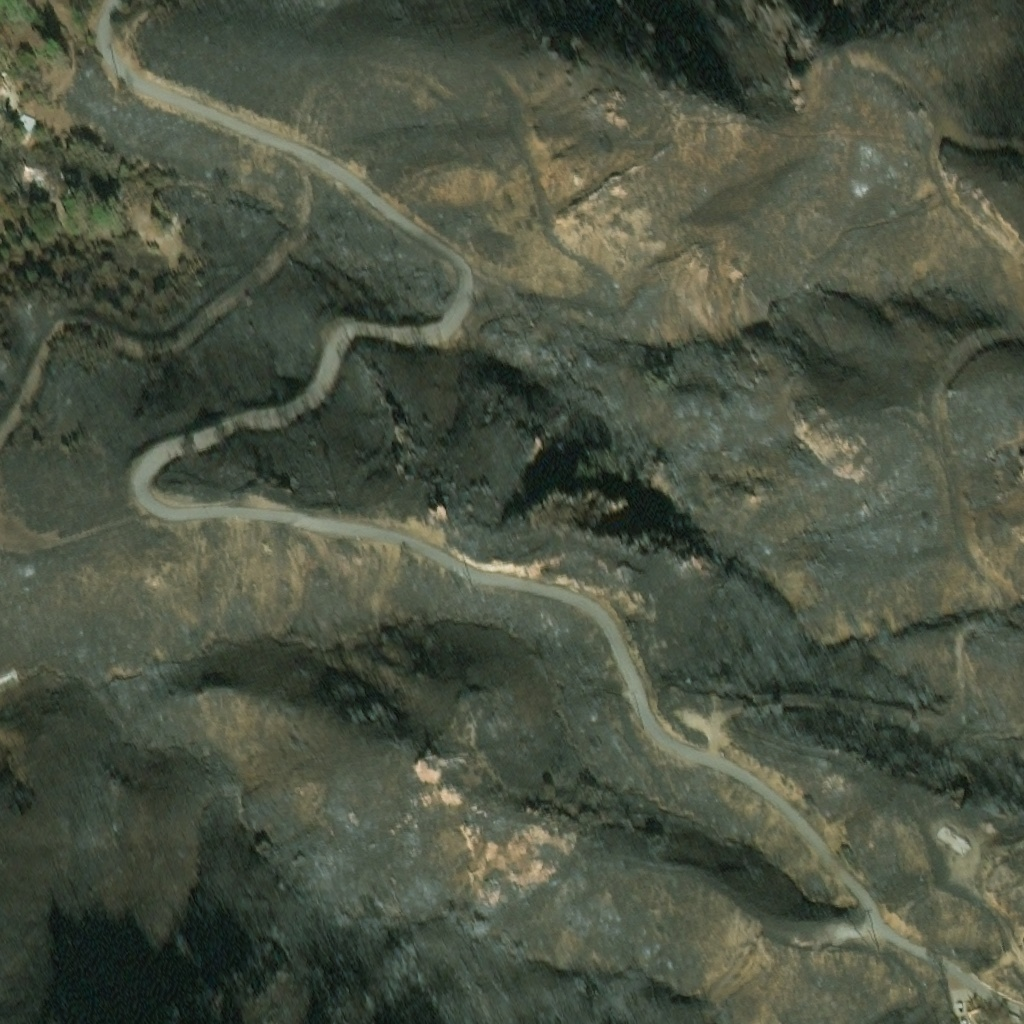0 no-damage: (15, 109, 36, 131)
4 un-classified: (0, 71, 7, 87), (92, 203, 105, 210)
